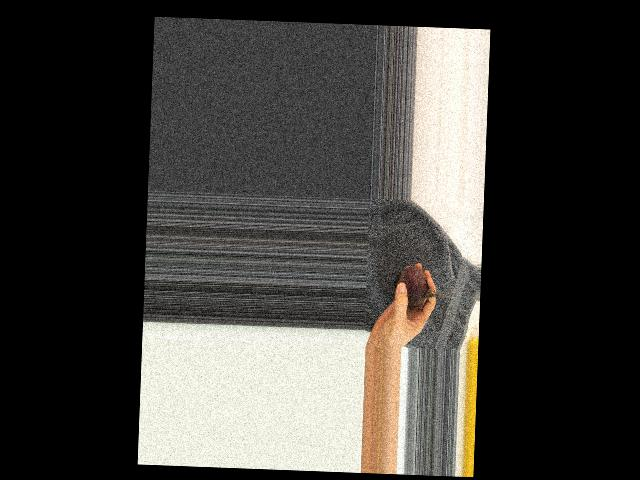beet: (392, 265, 455, 308)
